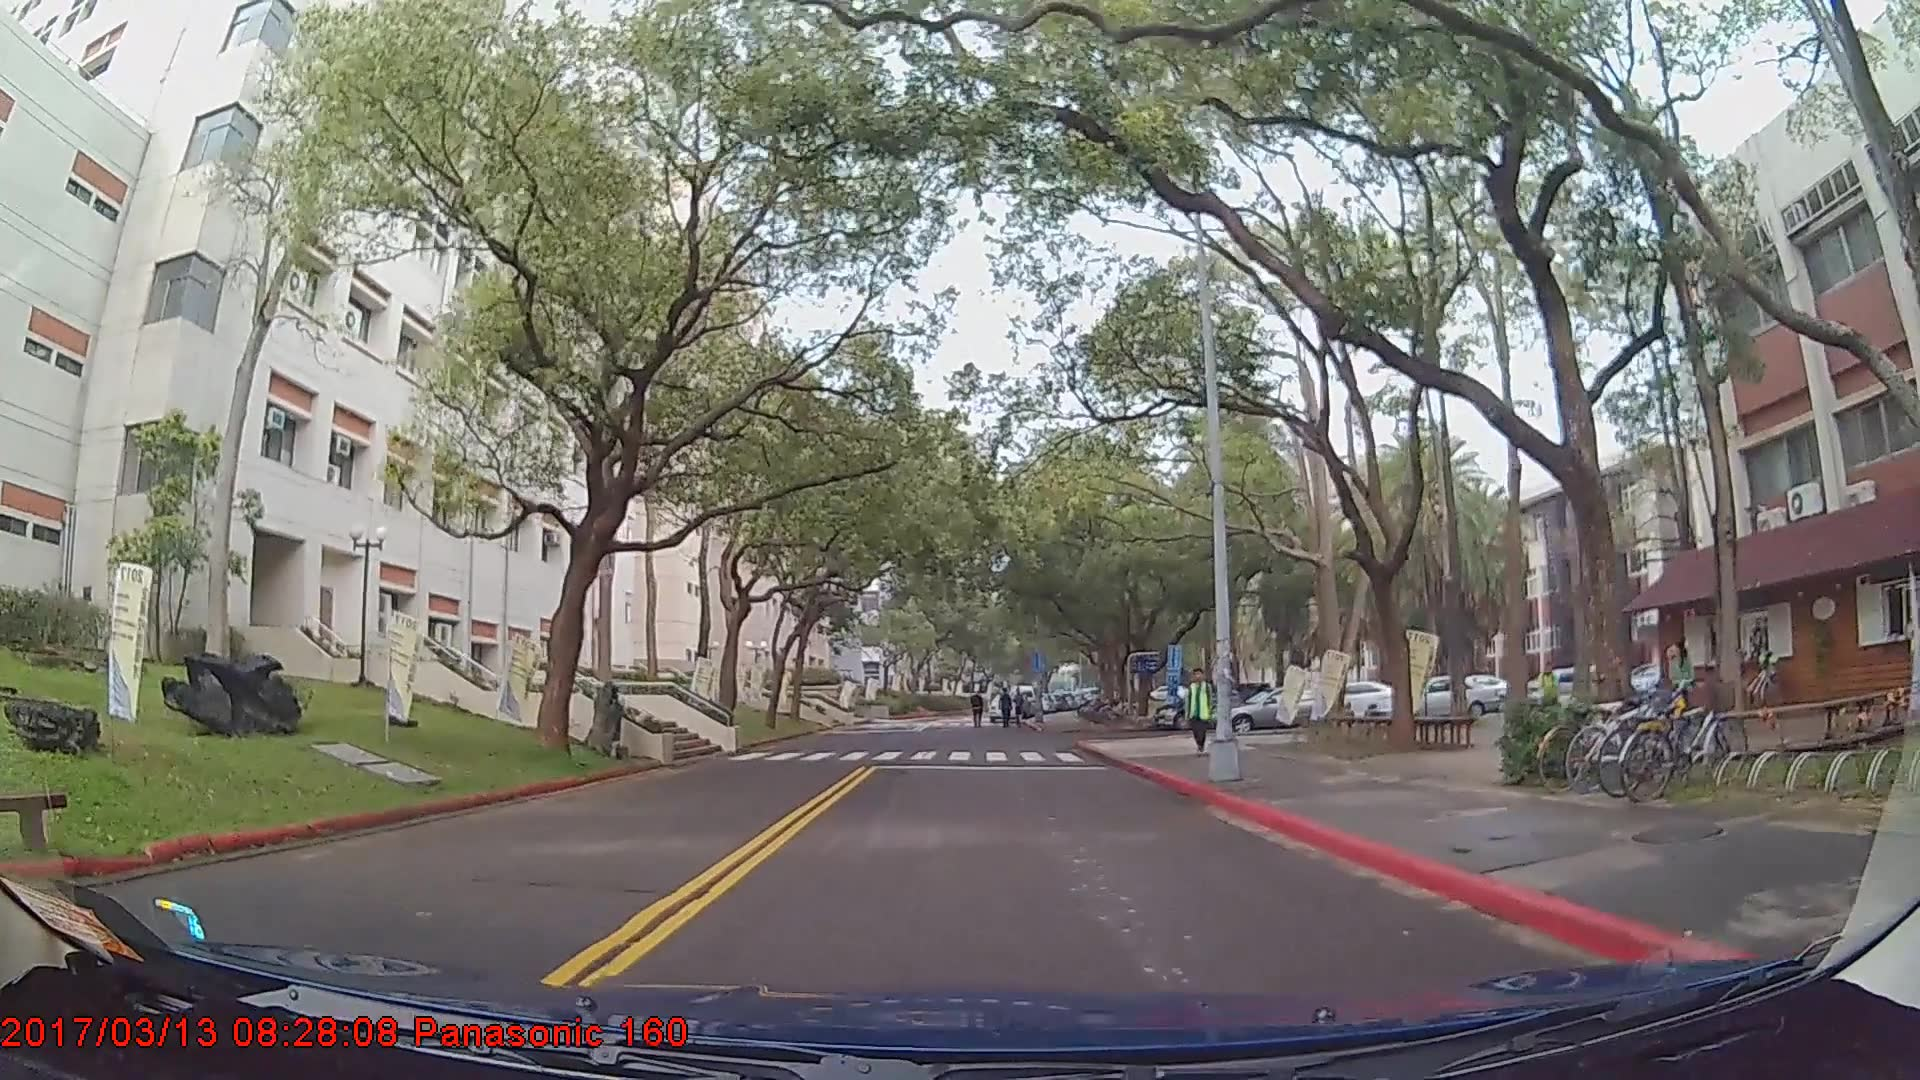pedestrian: (1182, 665, 1217, 755), (1539, 663, 1563, 724), (997, 689, 1017, 732)
vehicle: (1366, 674, 1501, 721), (1213, 685, 1350, 729)
